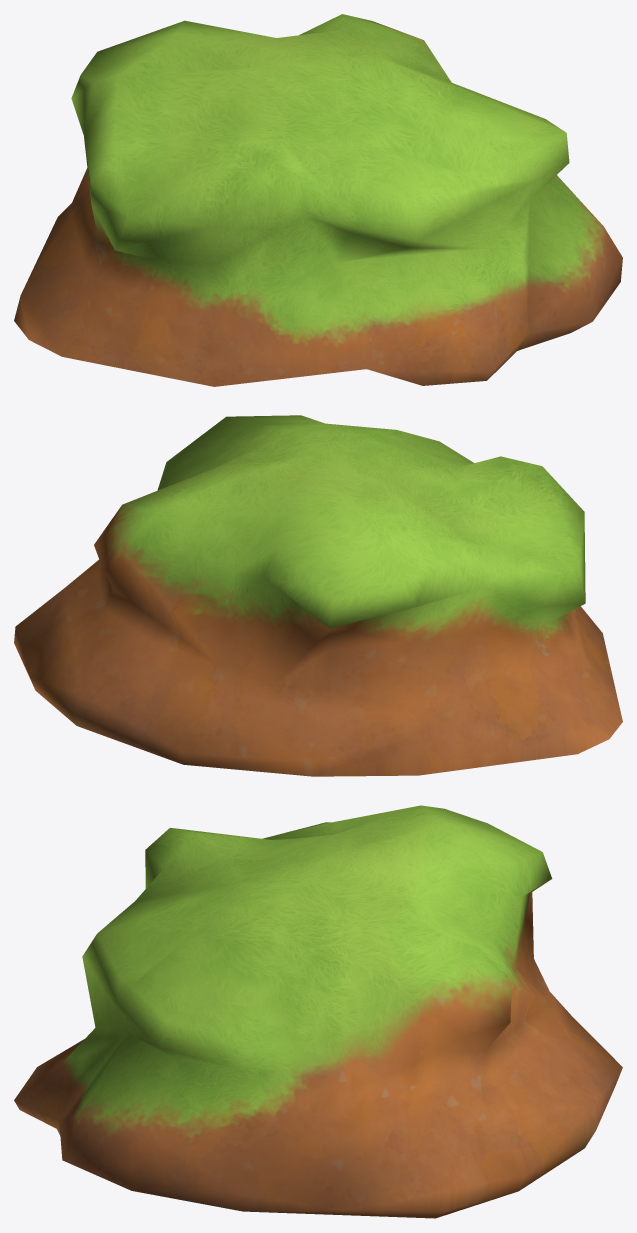
The model's file is ENV0110006.FBX.
3 renders of one model, top to bottom at view 1: azimuth 30°, elevation 25°; view 2: azimuth 150°, elevation 25°; view 3: azimuth 270°, elevation 25°, orthographic. The views are drawn at different scales.
Parts seen in each view (by area): view 1: smENV0110006; view 2: smENV0110006; view 3: smENV0110006.
Boxes of the visible parts, x1=… form: smENV0110006: x1=14, y1=14, x2=622, y2=386; smENV0110006: x1=14, y1=415, x2=622, y2=776; smENV0110006: x1=14, y1=805, x2=622, y2=1218.
Bounding box in the file's own units: 47.77 × 19.04 × 44.97.
1 material, 1 textured.
